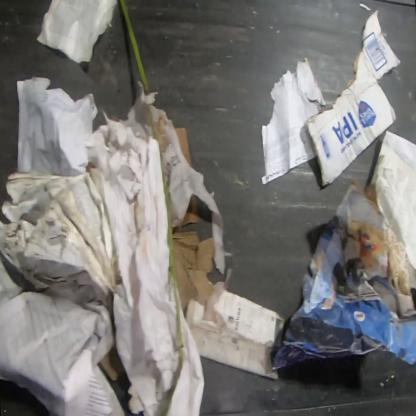cardboard: (306, 8, 402, 187), (335, 177, 415, 319), (169, 231, 214, 311), (174, 128, 192, 169), (181, 194, 199, 228)
